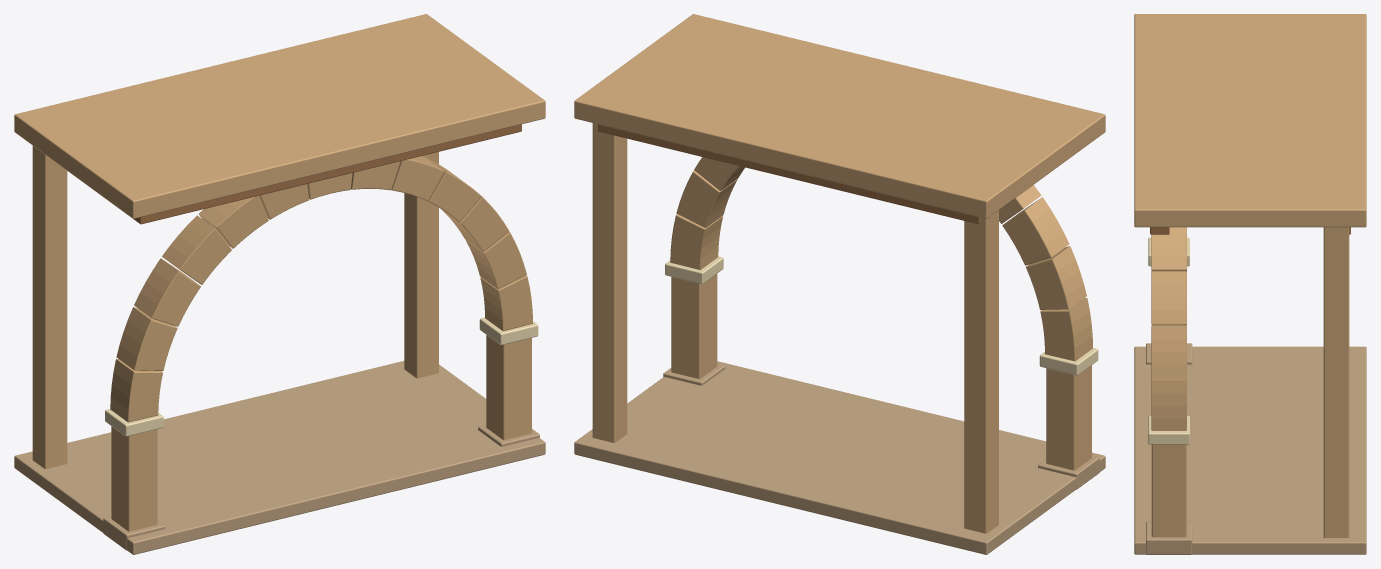
The model's file is desert-caravanserai-and-bazaar-courtyard-arcade-straig-7675b072__30443.glb.
3 renders of one model, left to right at view 1: azimuth 30°, elevation 25°; view 2: azimuth 150°, elevation 25°; view 3: azimuth 270°, elevation 25°, orthographic. The views are drawn at different scales.
Parts seen in each view (by area): view 1: courtyard-arcade-straight; view 2: courtyard-arcade-straight; view 3: courtyard-arcade-straight.
Boxes of the visible parts, x1,y1,x2,y2 form: courtyard-arcade-straight: (14, 14, 545, 554); courtyard-arcade-straight: (574, 14, 1105, 554); courtyard-arcade-straight: (1134, 14, 1366, 554).
Size of the model in its own units: 4.01 by 3.28 by 2.
